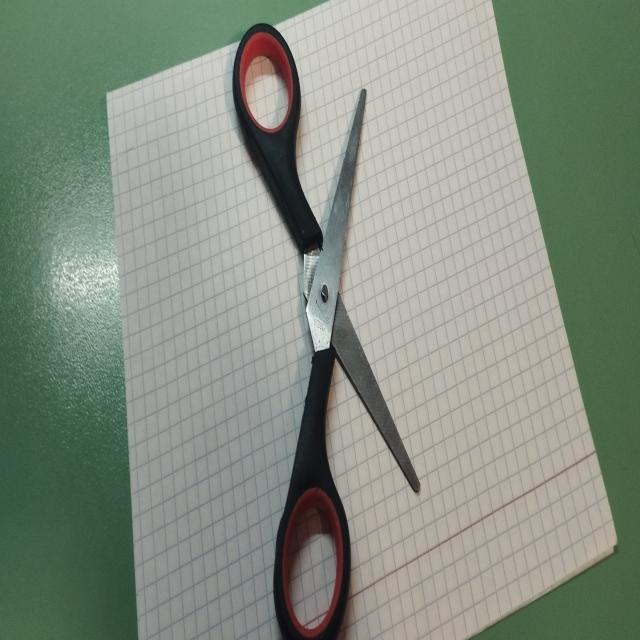tesoura: (230, 12, 423, 640)
